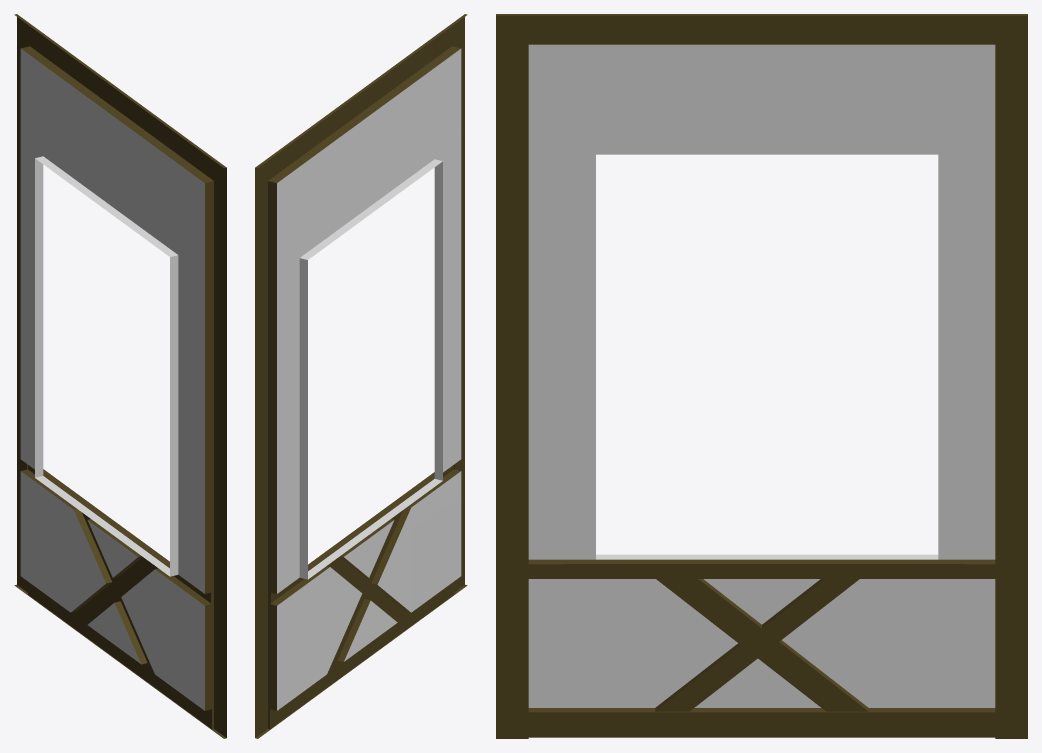
The model's file is GB_OneWindow.fbx.
3 renders of one model, left to right at view 1: azimuth 30°, elevation 25°; view 2: azimuth 150°, elevation 25°; view 3: azimuth 270°, elevation 25°, orthographic. The views are drawn at different scales.
Parts seen in each view (by area): view 1: OneWindow4; view 2: OneWindow4; view 3: OneWindow4.
Boxes of the visible parts, left/top/right/bottom form: OneWindow4: left=14, top=14, right=226, bottom=738; OneWindow4: left=255, top=14, right=467, bottom=738; OneWindow4: left=496, top=14, right=1027, bottom=738.
Bounding box in the file's own units: 0.0961 × 3 × 2.
